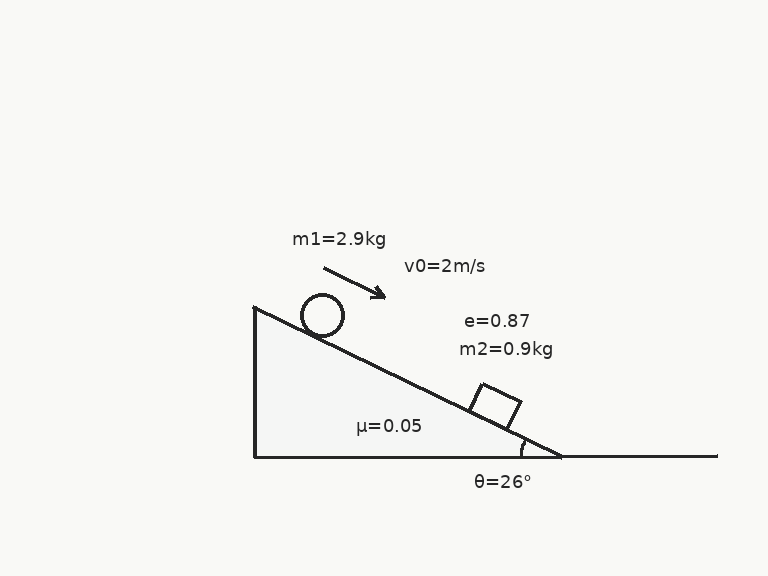ball: (298, 291, 346, 339)
block: (467, 381, 521, 431)
ramp: (252, 304, 563, 458)
